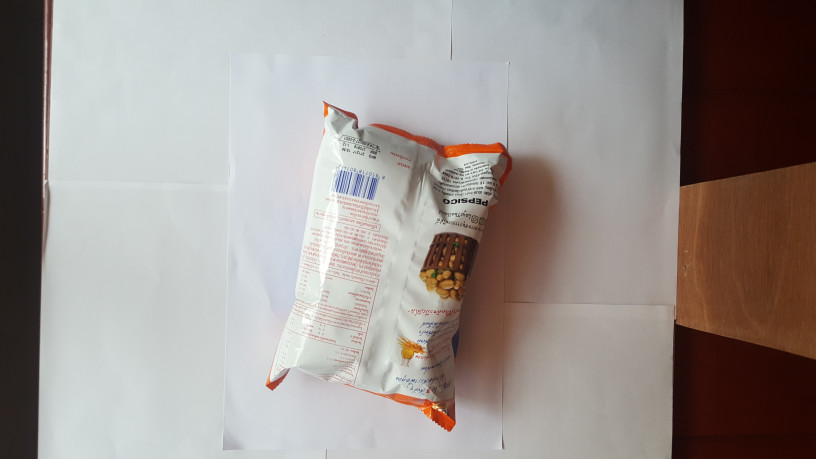lays-bbq: (251, 98, 516, 436)
